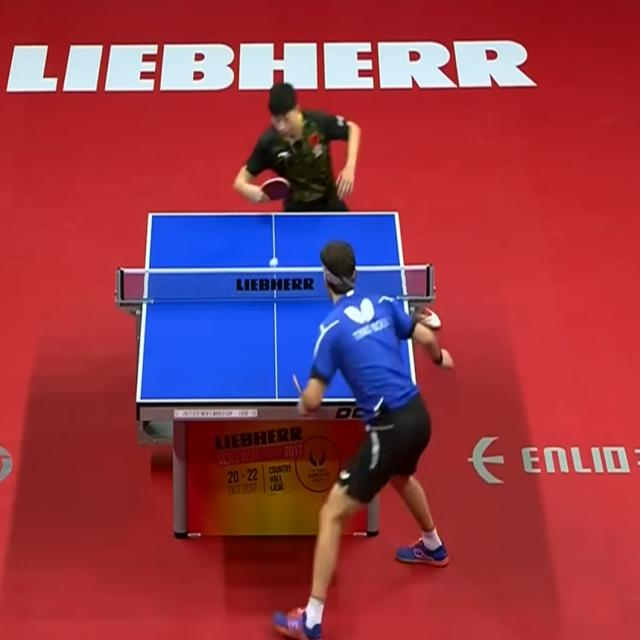TT Net: (116, 263, 433, 315)
TT Racket: (257, 167, 300, 209), (286, 371, 313, 411)
TT Table: (134, 208, 420, 404)
